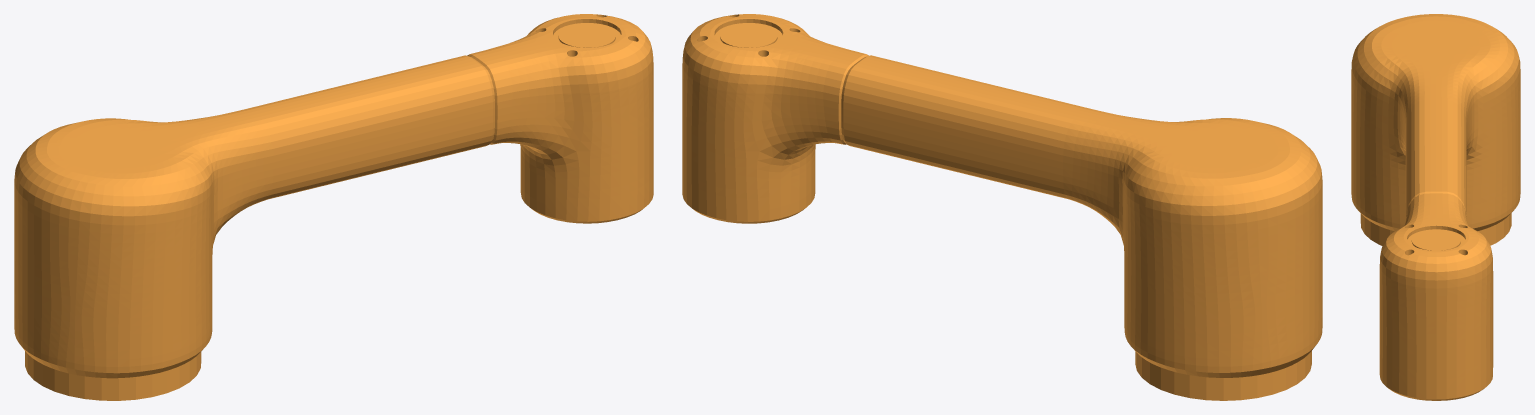
3 renders of one model, left to right at view 1: azimuth 30°, elevation 25°; view 2: azimuth 150°, elevation 25°; view 3: azimuth 270°, elevation 25°, orthographic. The views are drawn at different scales.
Visible parts, largest first — view 1: link_3; view 2: link_3; view 3: link_3.
Boxes of the visible parts, x1,y1,x2,y2 form: link_3: [14, 14, 653, 400]; link_3: [682, 14, 1322, 400]; link_3: [1351, 14, 1520, 400].
Size of the model in its own units: 0.6769 by 0.1881 by 0.2248.
